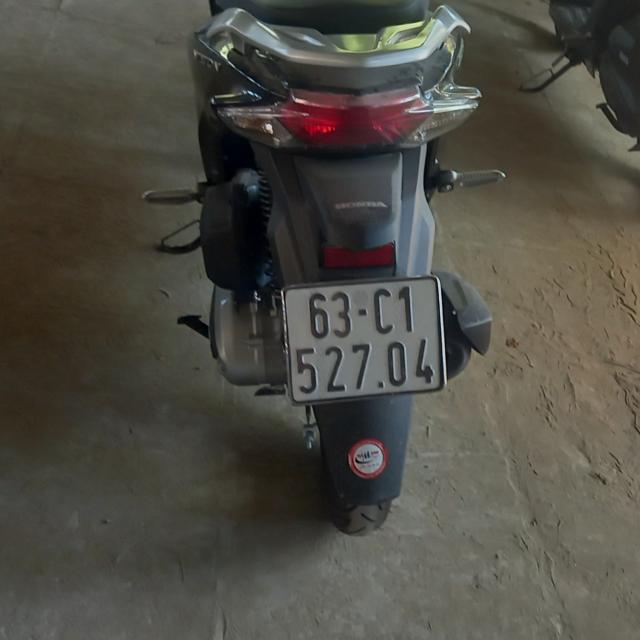0: (387, 340, 408, 387)
1: (398, 286, 414, 332)
2: (325, 346, 347, 392)
3: (330, 290, 353, 338)
4: (415, 338, 436, 383)
5: (296, 347, 318, 394)
6: (308, 292, 330, 339)
7: (351, 344, 371, 389)
C: (374, 288, 394, 335)
